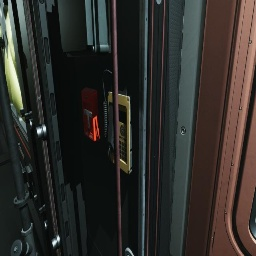EmergencyPhone ,: (102, 70, 133, 174)
FireAlarm ,: (81, 87, 100, 142)
